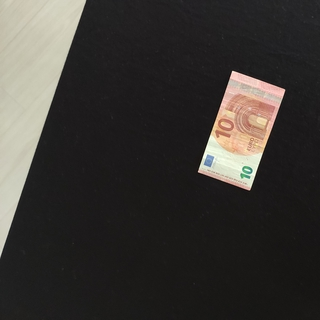10EUROFront: (197, 69, 285, 191)
